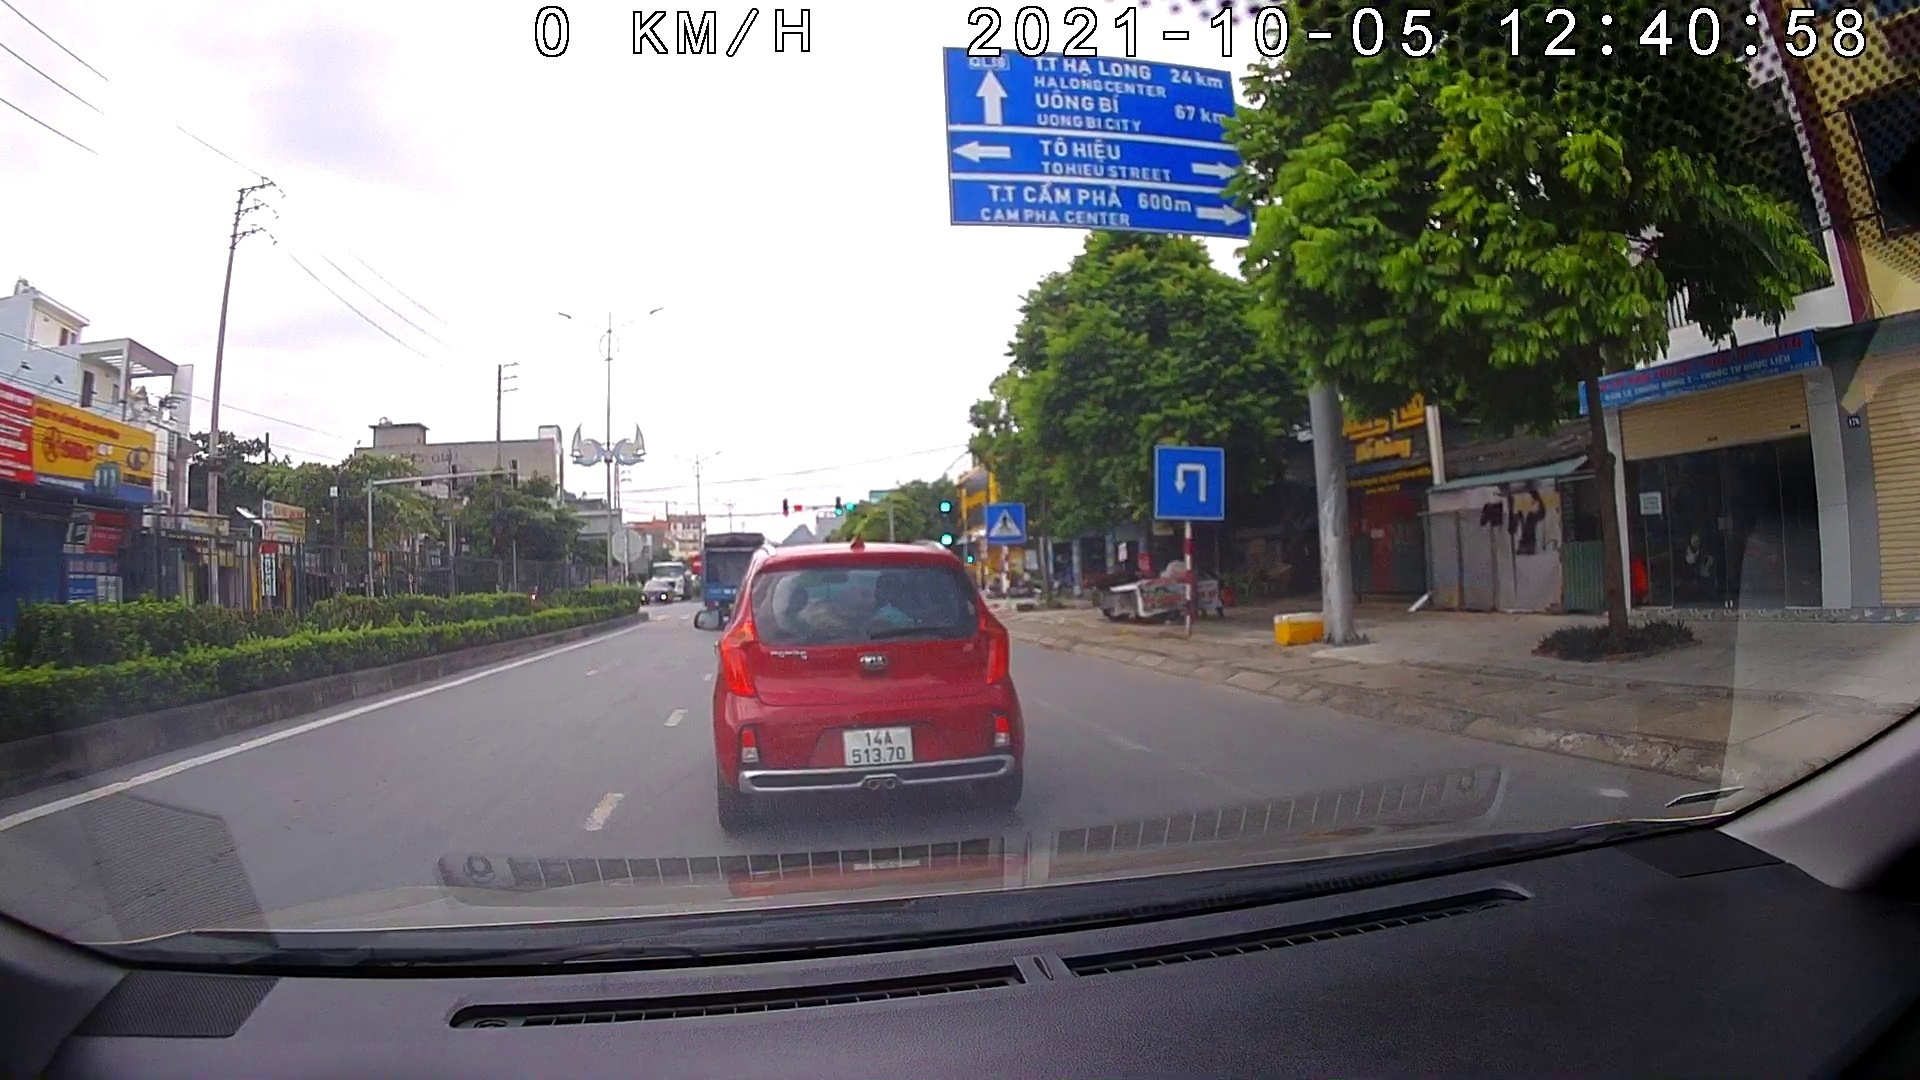Bien khac: (1153, 450, 1222, 524)
Cam di nguoc chieu: (688, 554, 702, 568)
Nguoi di bo: (978, 502, 1029, 549)
